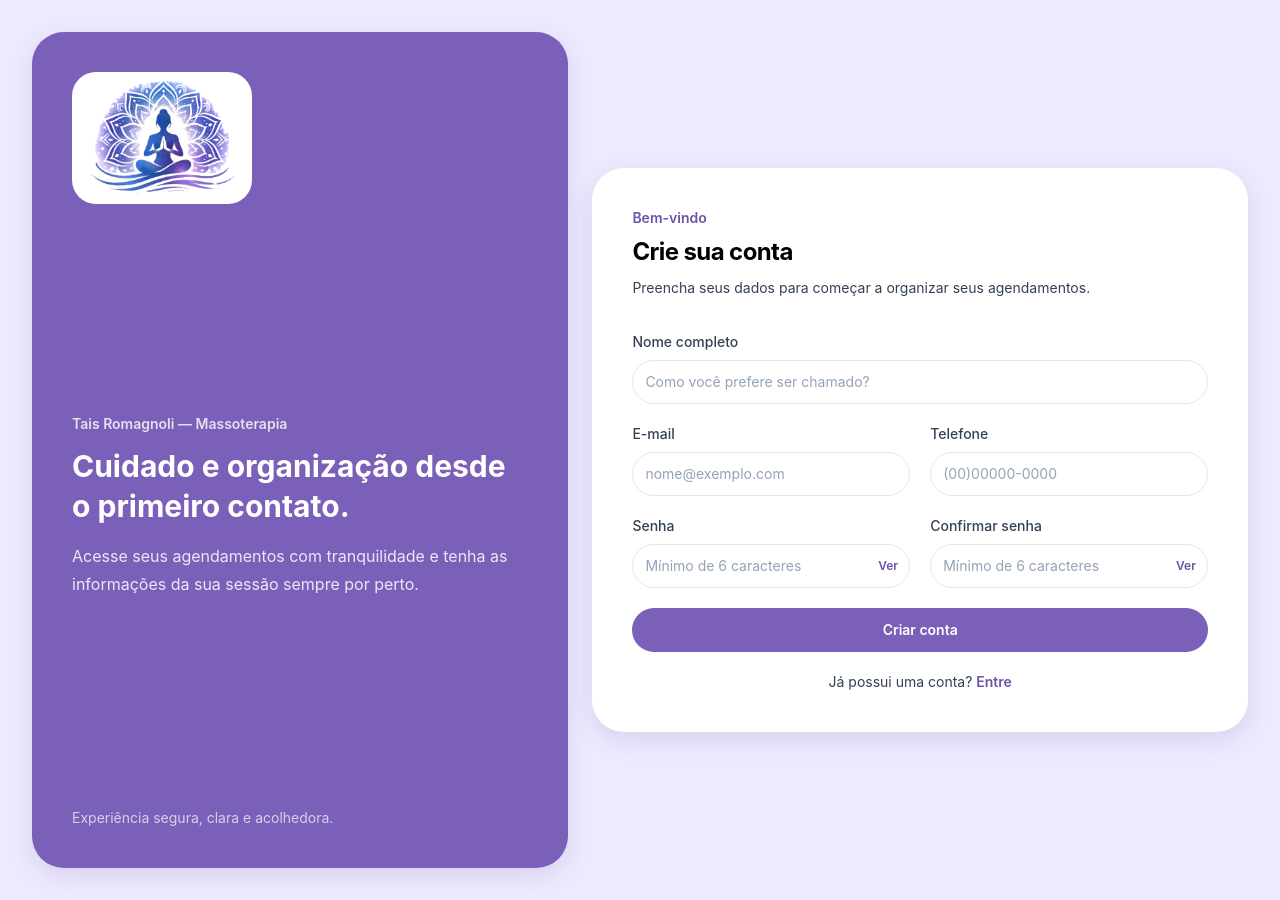
Test case: RegisterPage › valida formato de e-mail
Step 1. Type "email-invalido" into the field labelled "E-mail" → (771, 474), box [632,452,910,496]
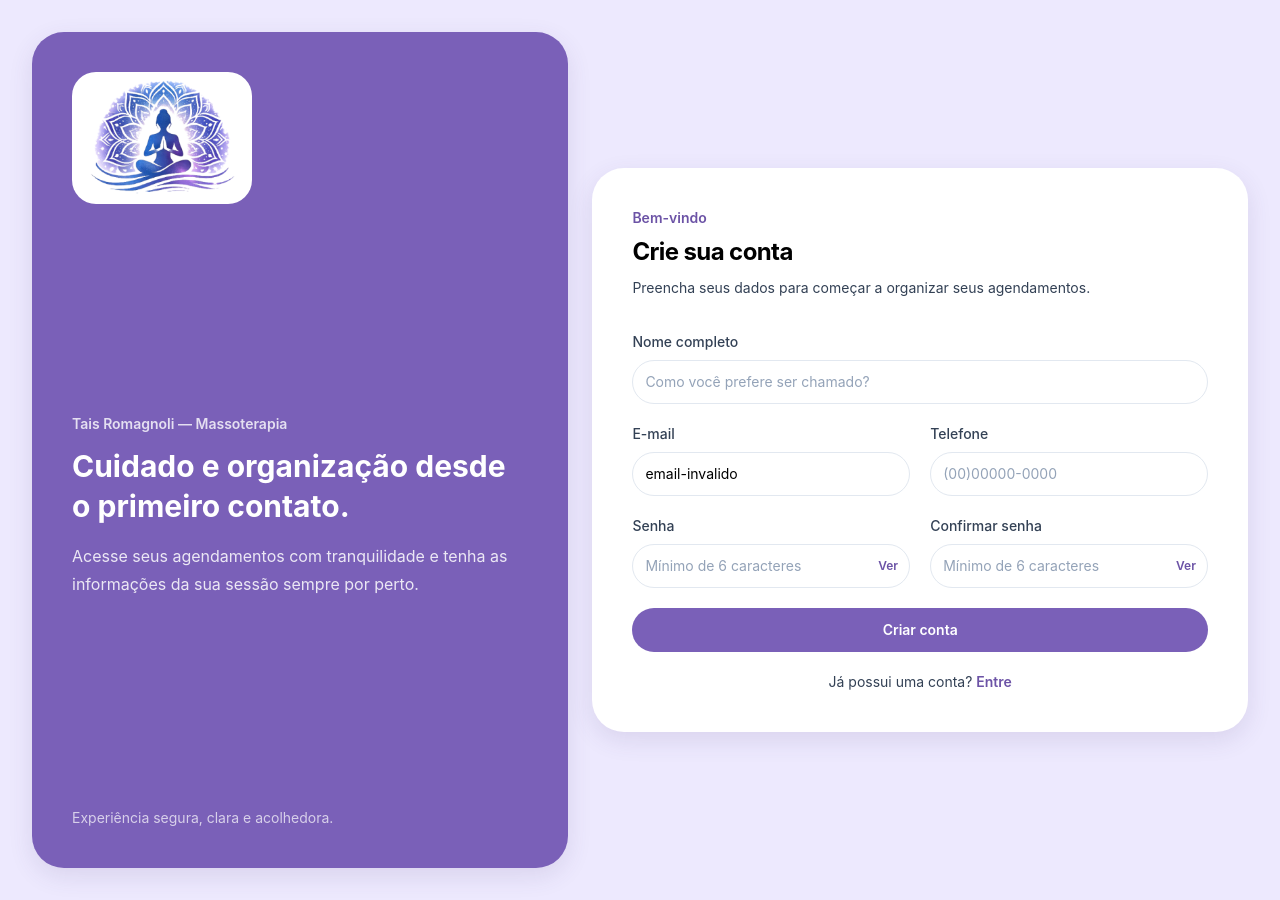
Step 2. Click the button "Criar conta" → (920, 630), box [632,608,1208,652]
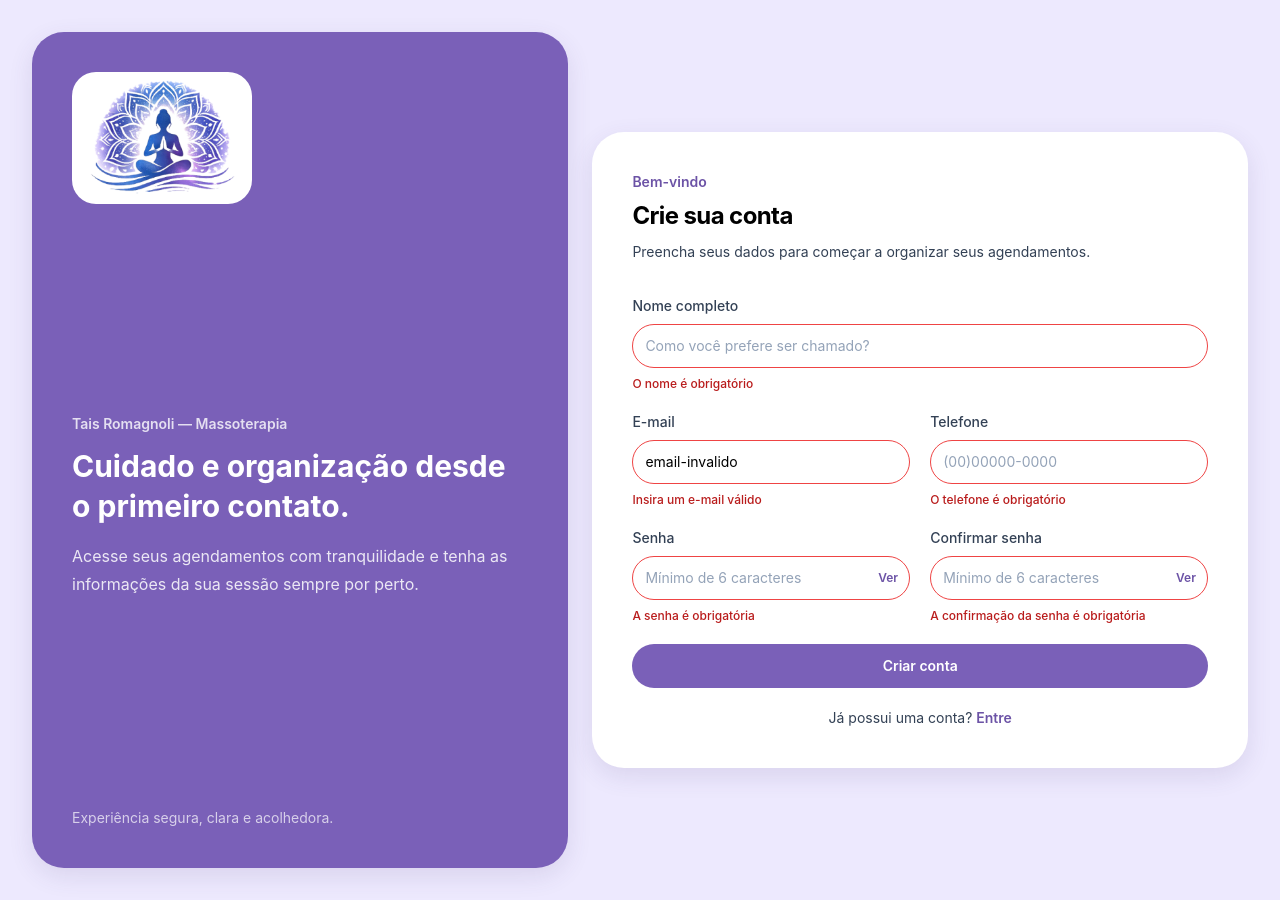
Check: the text "Insira um e-mail válido" is shown, box [632,492,762,507]
